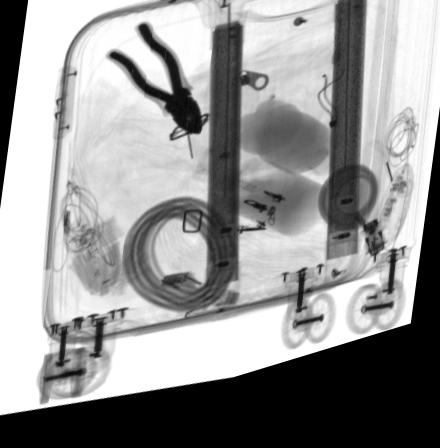Pliers: (108, 29, 203, 146)
